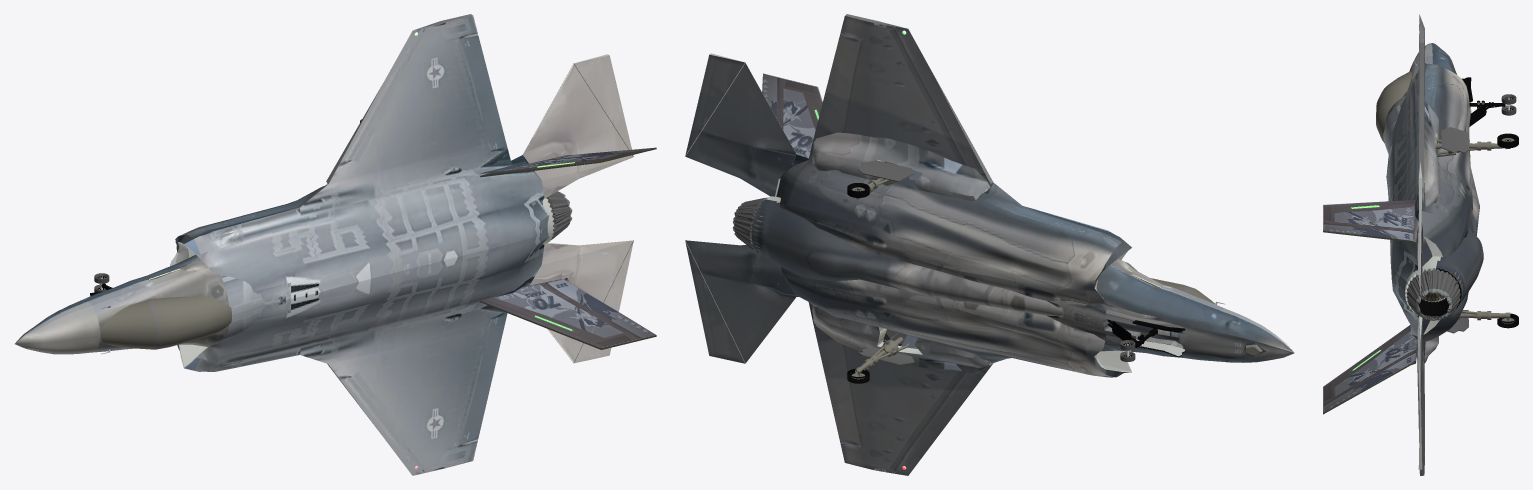
File: f35-exterior.d7d38284.glb
3 views of the same model, side by side, from view 1: azimuth 30°, elevation 25°; view 2: azimuth 150°, elevation 25°; view 3: azimuth 270°, elevation 25° (orthographic). The views are drawn at different scales.
Visible parts, largest first — view 1: Cylinder.042_16, Cylinder.007_15; view 2: Cylinder.042_16, Cylinder.006_14, Cylinder.010_9, Plane.003_4; view 3: Cylinder.042_16, Cylinder.006_14, Cylinder.007_15, Plane.020_21, Plane.003_4, Cylinder.010_9, Plane.001_20.
Part boxes in pixels (bbox=[...]): Cylinder.042_16: bbox=[15, 14, 656, 475]; Cylinder.007_15: bbox=[100, 295, 231, 349]; Cylinder.042_16: bbox=[685, 14, 1294, 475]; Cylinder.006_14: bbox=[812, 132, 990, 372]; Cylinder.010_9: bbox=[847, 332, 909, 383]; Plane.003_4: bbox=[858, 160, 914, 181]; Cylinder.042_16: bbox=[1323, 14, 1516, 475]; Cylinder.006_14: bbox=[1424, 101, 1438, 362]; Cylinder.007_15: bbox=[1376, 71, 1412, 143]; Plane.020_21: bbox=[1435, 133, 1518, 156]; Plane.003_4: bbox=[1441, 127, 1468, 152]; Cylinder.010_9: bbox=[1458, 310, 1518, 328]; Plane.001_20: bbox=[1447, 310, 1468, 333].
Bounding box in the file's own units: 15.67 × 10.88 × 4.46.
Materials: 24 (8 with a texture image).
